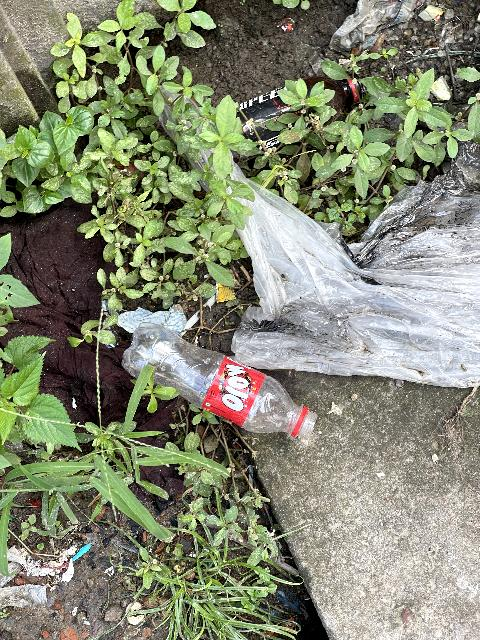bottle: (106, 325, 333, 442)
